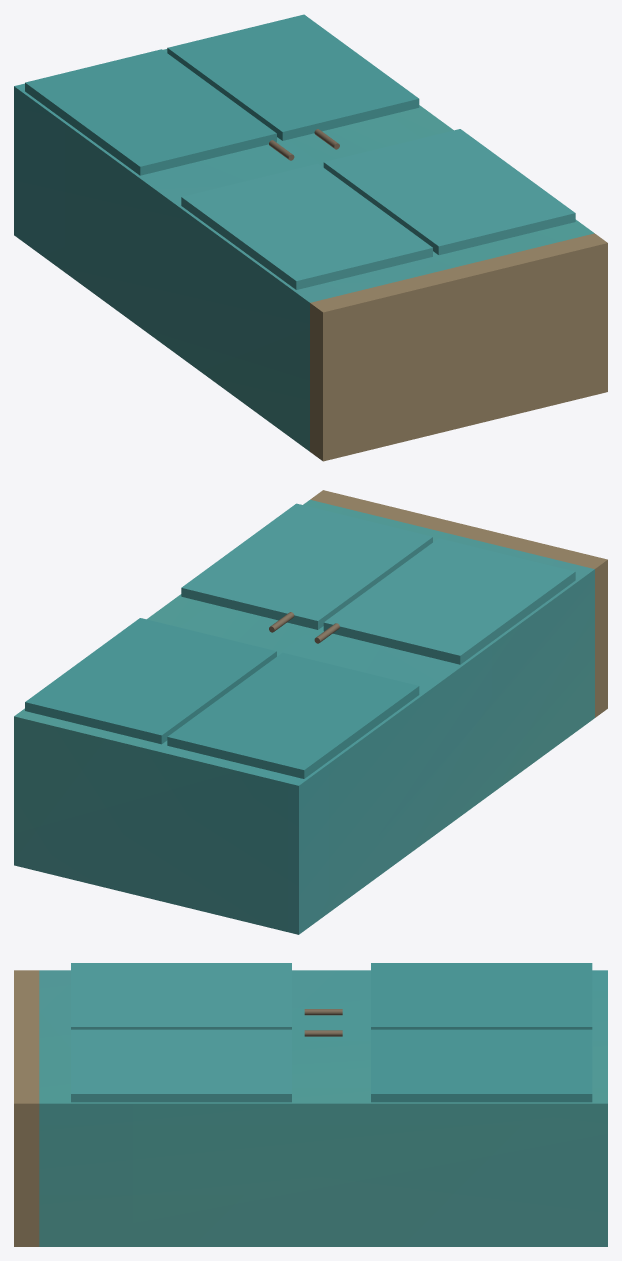
Rendered from vintage_turquoise_cabinet.glb.
3 renders of one model, top to bottom at view 1: azimuth 30°, elevation 25°; view 2: azimuth 150°, elevation 25°; view 3: azimuth 270°, elevation 25°, orthographic. The views are drawn at different scales.
Visible parts, largest first — view 1: world; view 2: world; view 3: world.
Part boxes in pixels (x1,y1,x2,y2): world: (14, 14, 607, 461); world: (14, 490, 607, 934); world: (14, 963, 607, 1246).
Bounding box in the file's own units: 1 × 0.56 × 1.88.
